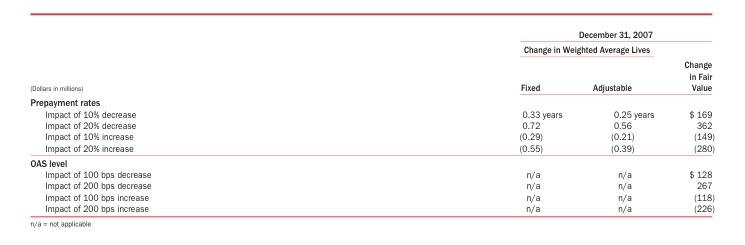table: (29, 28, 713, 213)
table column: (29, 28, 334, 213), (334, 28, 541, 213), (576, 28, 633, 213), (668, 28, 713, 213), (541, 28, 576, 213), (633, 28, 668, 213)
table column header: (29, 28, 713, 94)
table projected row header: (29, 154, 713, 168), (29, 94, 713, 107)
table row: (29, 41, 713, 68), (29, 68, 713, 94), (29, 154, 713, 168), (29, 28, 713, 41), (29, 94, 713, 107), (29, 141, 713, 154), (29, 107, 713, 119), (29, 179, 713, 191), (29, 119, 713, 130), (29, 130, 713, 141), (29, 168, 713, 179), (29, 191, 713, 202), (29, 202, 713, 213)
table spanning cell: (29, 28, 334, 94), (334, 41, 668, 68), (334, 28, 713, 41), (668, 41, 713, 94)
